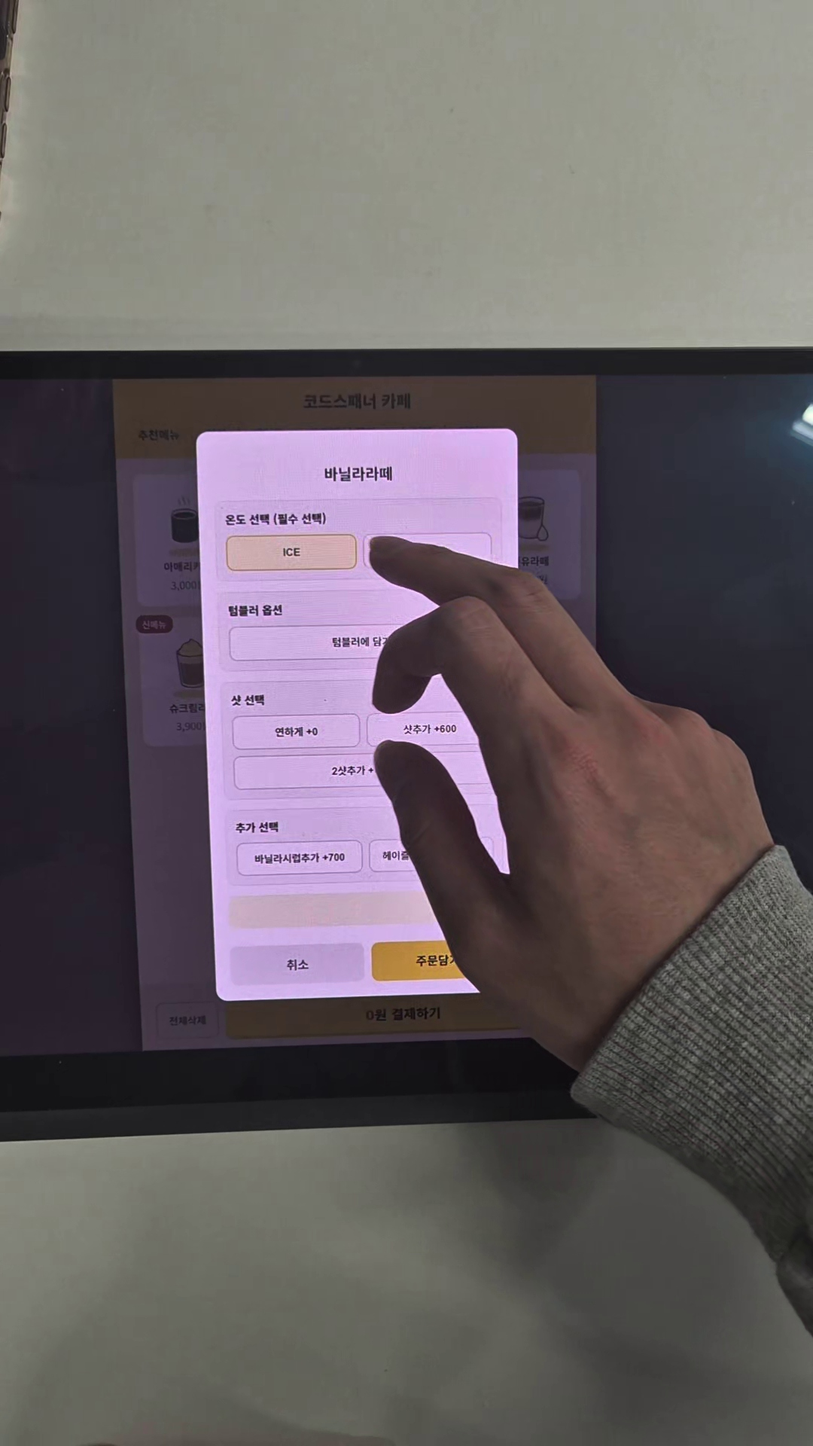action_button: (232, 944, 362, 981), (373, 942, 503, 979)
option_button: (230, 624, 492, 660), (234, 753, 496, 789), (227, 534, 357, 572), (234, 838, 364, 876), (370, 836, 500, 874), (232, 712, 362, 749), (366, 712, 496, 749)
popup_modal: (196, 427, 533, 1001)
